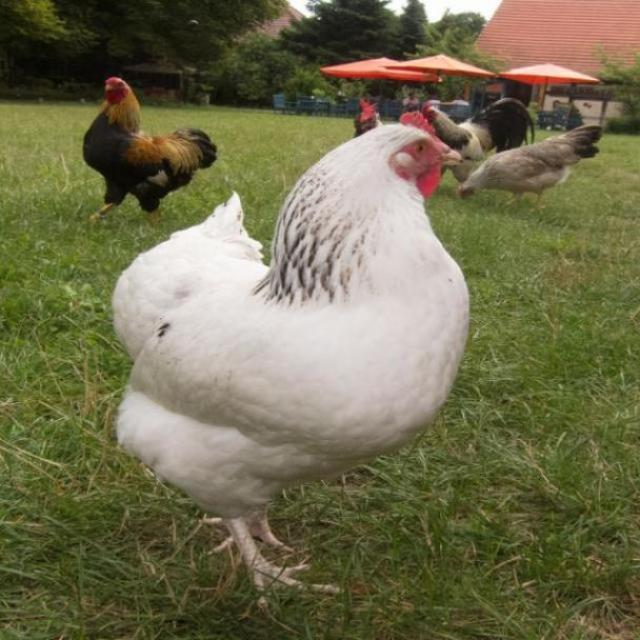Chicken: (100, 111, 469, 610), (75, 77, 220, 232), (451, 123, 604, 216), (420, 100, 538, 181), (349, 93, 389, 139)
